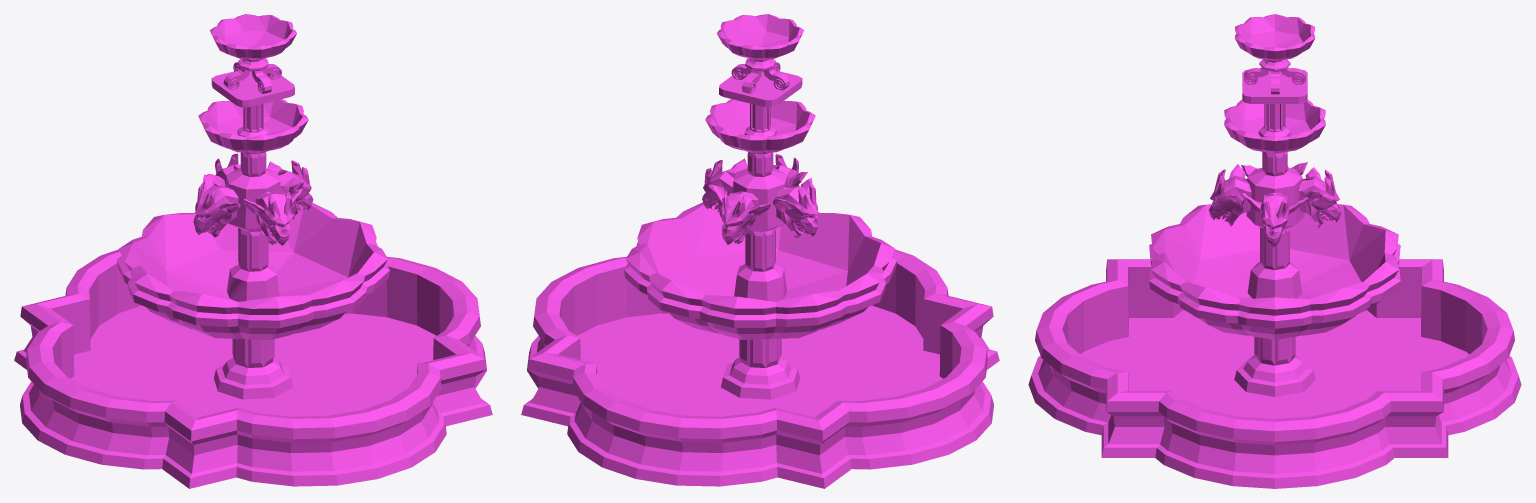
The model's file is SM_Fountain_B_Fantasy.fbx.
3 views of the same model, side by side, from view 1: azimuth 30°, elevation 25°; view 2: azimuth 150°, elevation 25°; view 3: azimuth 270°, elevation 25° (orthographic).
Visible parts, largest first — view 1: SM_Fountain_B_Fantasy; view 2: SM_Fountain_B_Fantasy; view 3: SM_Fountain_B_Fantasy.
Part boxes in pixels (box(x1,y1,x2,y2)): SM_Fountain_B_Fantasy: box(14, 14, 492, 488); SM_Fountain_B_Fantasy: box(521, 14, 999, 488); SM_Fountain_B_Fantasy: box(1028, 14, 1521, 488).
Bounding box in the file's own units: 6 × 4.75 × 6.
